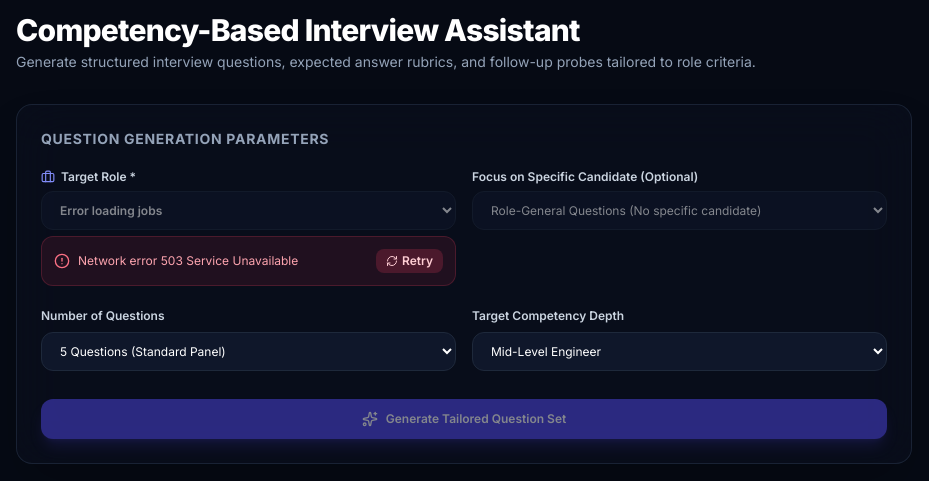
Test case: InterviewAssistantPage - Target Role Dropdown & Job States › displays a meaningful error and provides a retry button on request failure
This screenshot has width=929, height=481.
Check: the text "Network error 503 Service Unavailable" is shown, box [78,253,298,269]
Click the button "Retry". click: (410, 261)
box: [376,249,443,273]
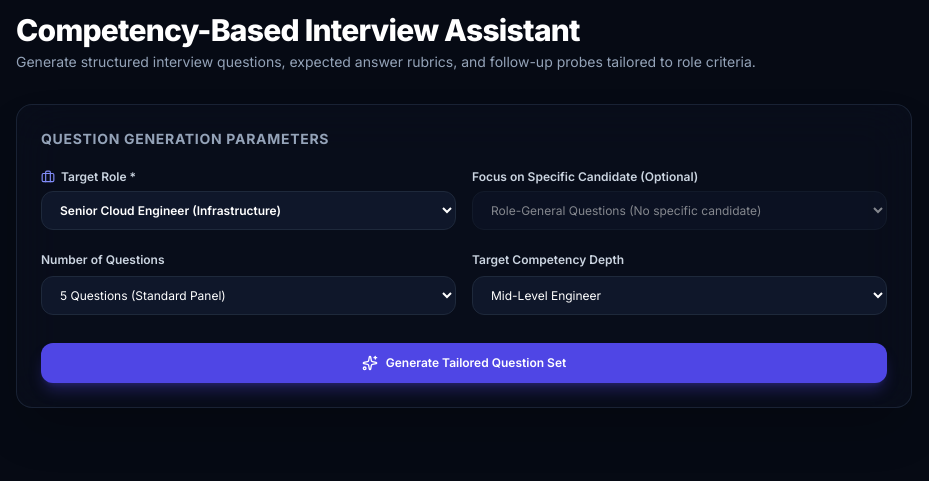
Check: the text "Network error 503" is gone
